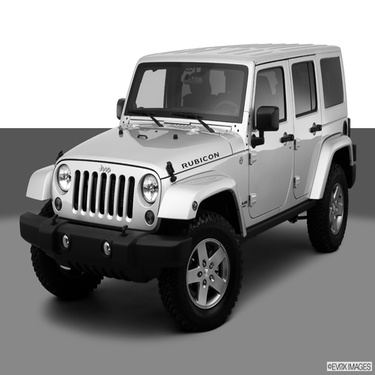car: (10, 26, 361, 338)
